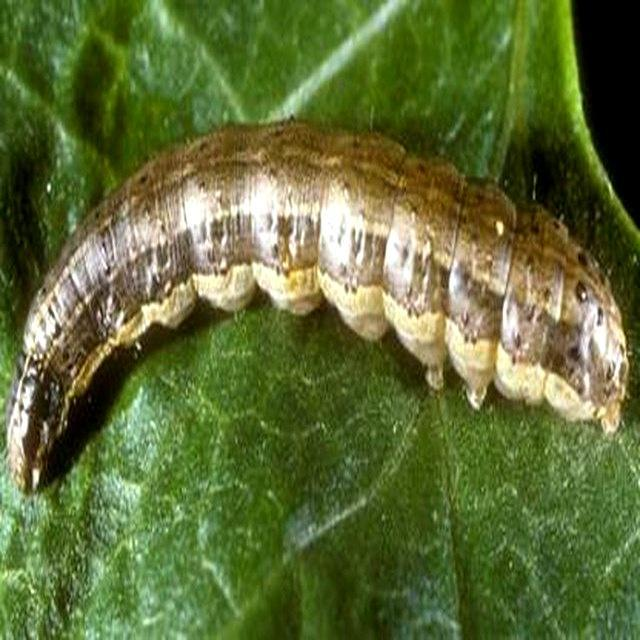Plaga: (6, 86, 629, 496)
